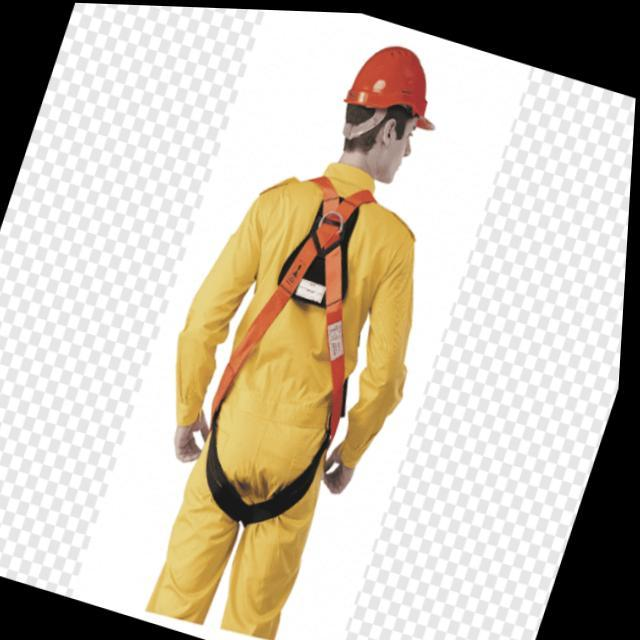belt: (232, 168, 406, 396)
